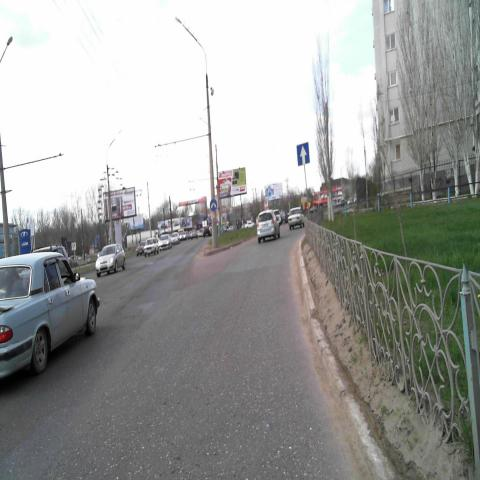5_5: (296, 140, 310, 166)
